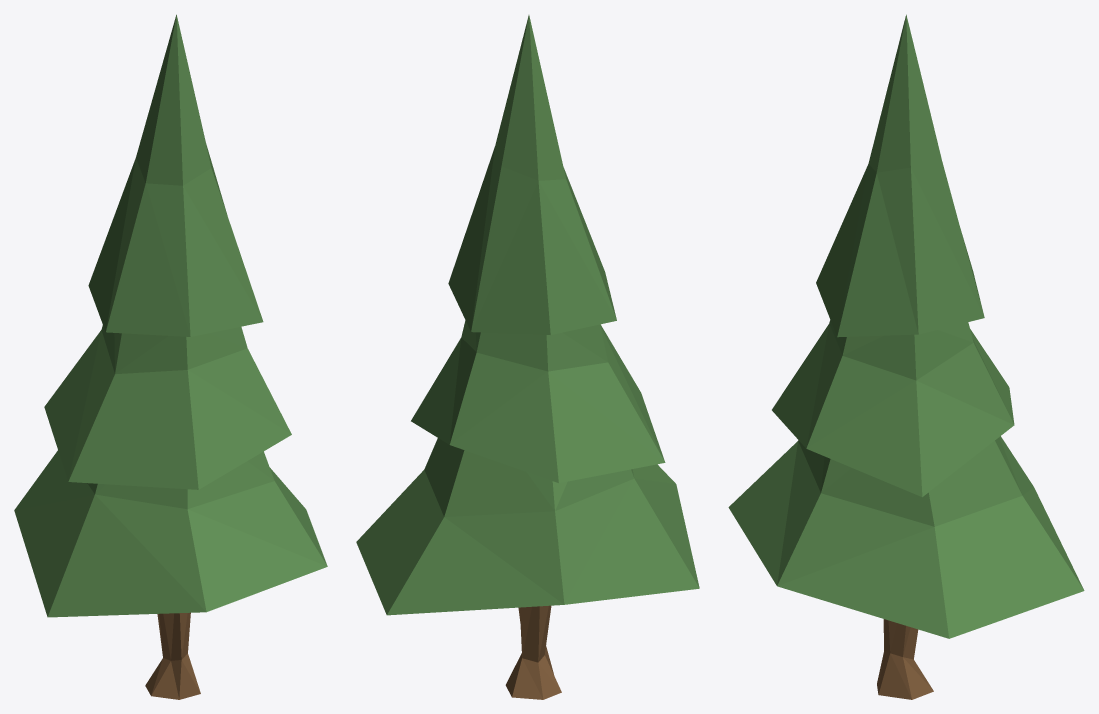
The model's file is tree3d-023.glb.
3 renders of one model, left to right at view 1: azimuth 30°, elevation 25°; view 2: azimuth 150°, elevation 25°; view 3: azimuth 270°, elevation 25°, orthographic.
Visible parts, largest first — view 1: tree3d-023; view 2: tree3d-023; view 3: tree3d-023.
Boxes of the visible parts, x1,y1,x2,y2 form: tree3d-023: (14, 14, 327, 699); tree3d-023: (356, 15, 699, 699); tree3d-023: (728, 14, 1084, 699).
Bounding box in the file's own units: 0.468 × 1 × 0.4775.
